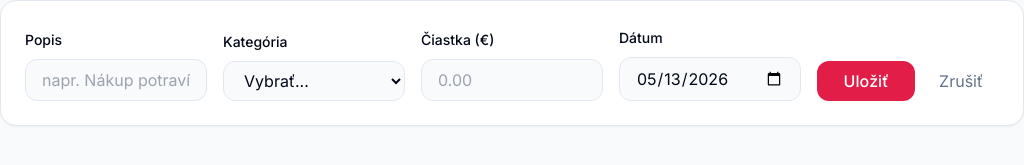
Test: ExpenseForm › shows validation errors when submitting empty form
The image size is (1024, 165).
What coordinates should you click on to do the following:
click the button "Uložiť"
I would click on:
 (866, 81)
Its box is [817,61,915,101].
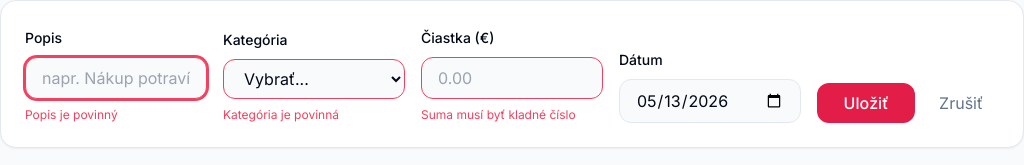
Expected: the text "Popis je povinný" is shown, [25,107,118,122]
